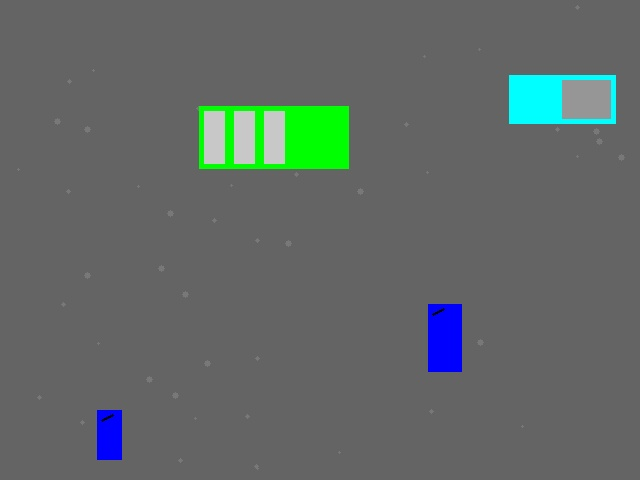bus: (199, 106, 348, 168)
motorcycle: (428, 304, 461, 371), (97, 410, 121, 459)
truck: (509, 75, 615, 123)
